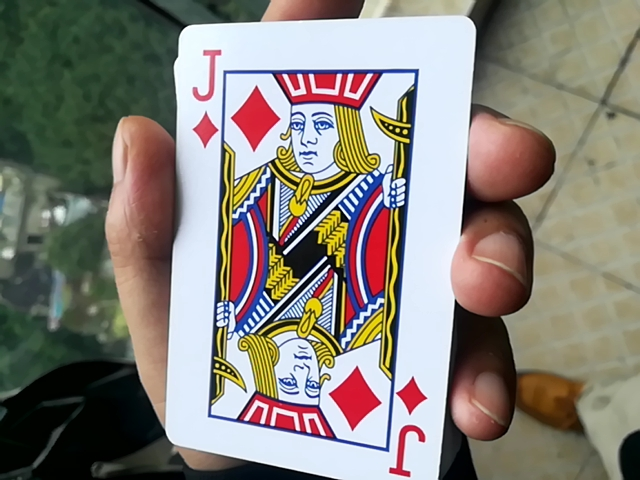fk j: (144, 23, 468, 480)
